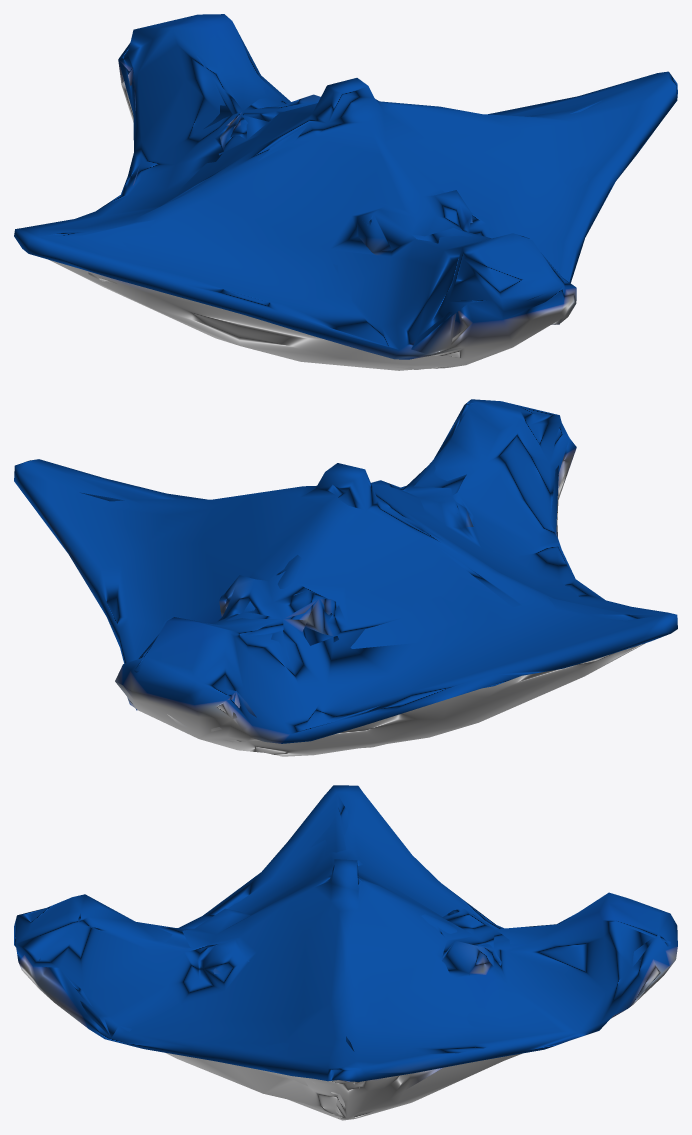
The model's file is gen3d-manta-ray-lod0.glb.
3 views of the same model, one above another, from view 1: azimuth 30°, elevation 25°; view 2: azimuth 150°, elevation 25°; view 3: azimuth 270°, elevation 25° (orthographic). The views are drawn at different scales.
Parts seen in each view (by area): view 1: part_0; view 2: part_0; view 3: part_0.
Part boxes in pixels (<box>): part_0: <box>14,14,677,370</box>; part_0: <box>14,399,677,756</box>; part_0: <box>14,785,677,1120</box>.
Size of the model in its own units: 2.53 by 0.9922 by 2.5.
